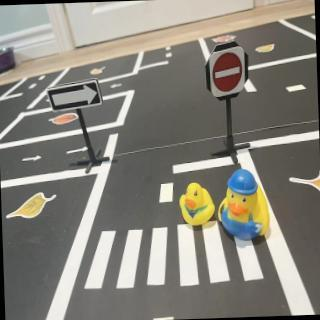duck_regular: (179, 184, 217, 229)
duck_specialty: (218, 169, 273, 243)
road_crosswalk: (79, 217, 269, 292)
road_oneway: (65, 145, 93, 157), (21, 155, 44, 165), (110, 80, 126, 92)
sign_noentry: (211, 46, 247, 100)
sign_oneway_right: (47, 78, 105, 113)
